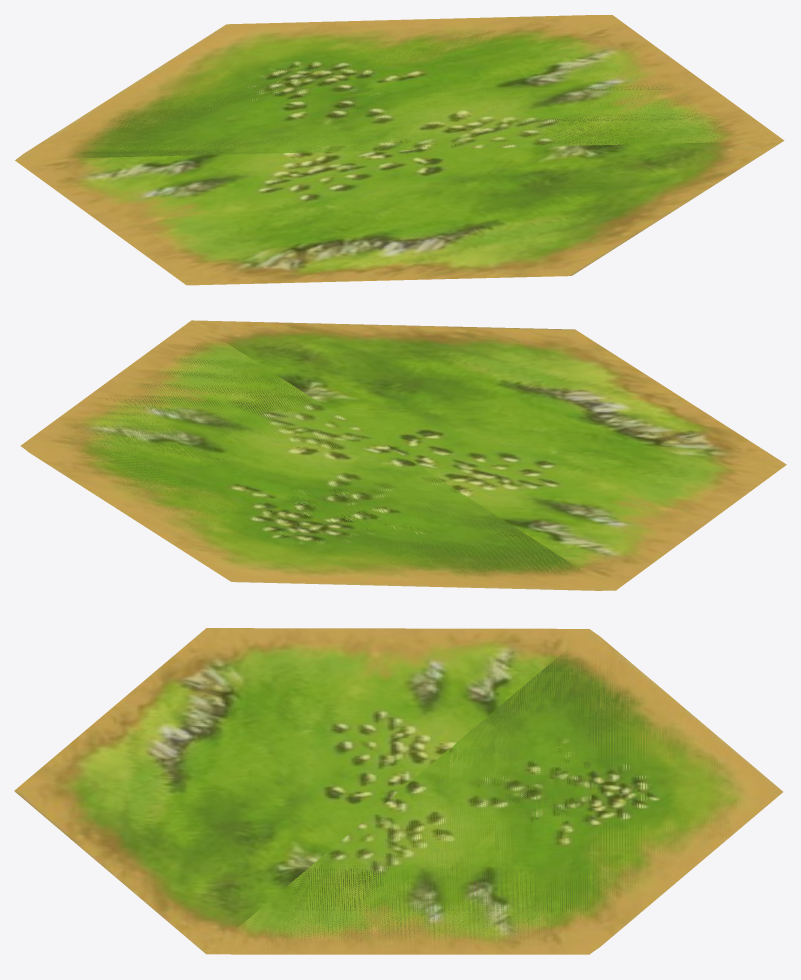
Rendered from Wool Resource.fbx.
The picture shows the model from 3 angles, top to bottom: view 1: azimuth 30°, elevation 25°; view 2: azimuth 150°, elevation 25°; view 3: azimuth 270°, elevation 25°; orthographic projection. The views are drawn at different scales.
Parts seen in each view (by area): view 1: Lightless; view 2: Lightless; view 3: Lightless.
Boxes of the visible parts, x1,y1,x2,y2 form: Lightless: (15, 15, 784, 285); Lightless: (20, 320, 786, 590); Lightless: (14, 628, 782, 954).
Bounding box in the file's own units: 201 × 3 × 201.
Materials: 1 (1 with a texture image).
